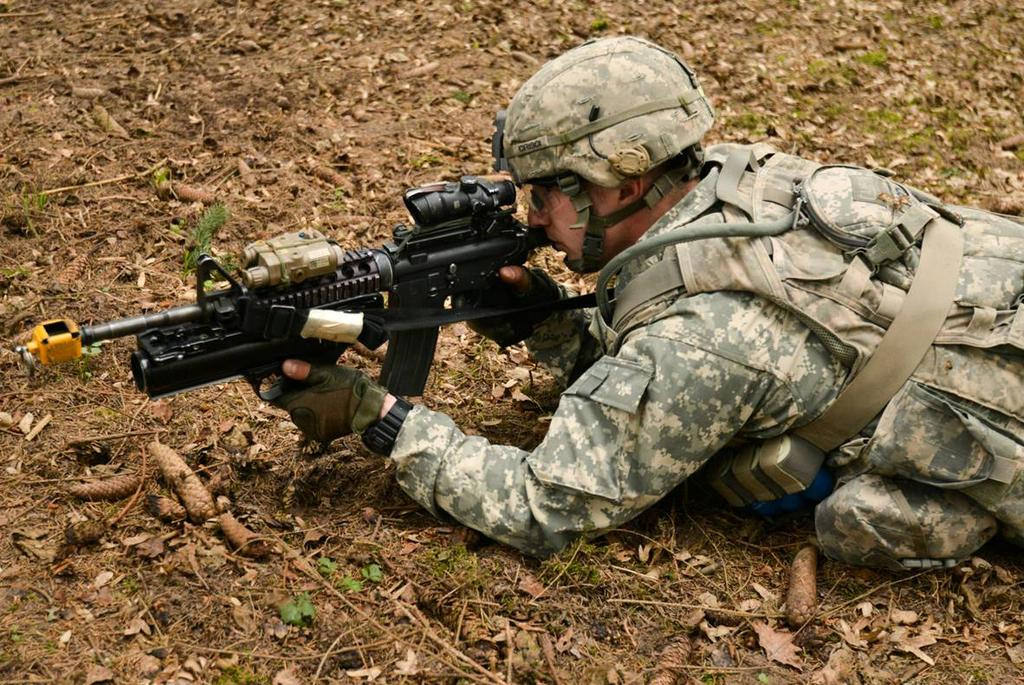Rifle: (36, 156, 593, 504)
